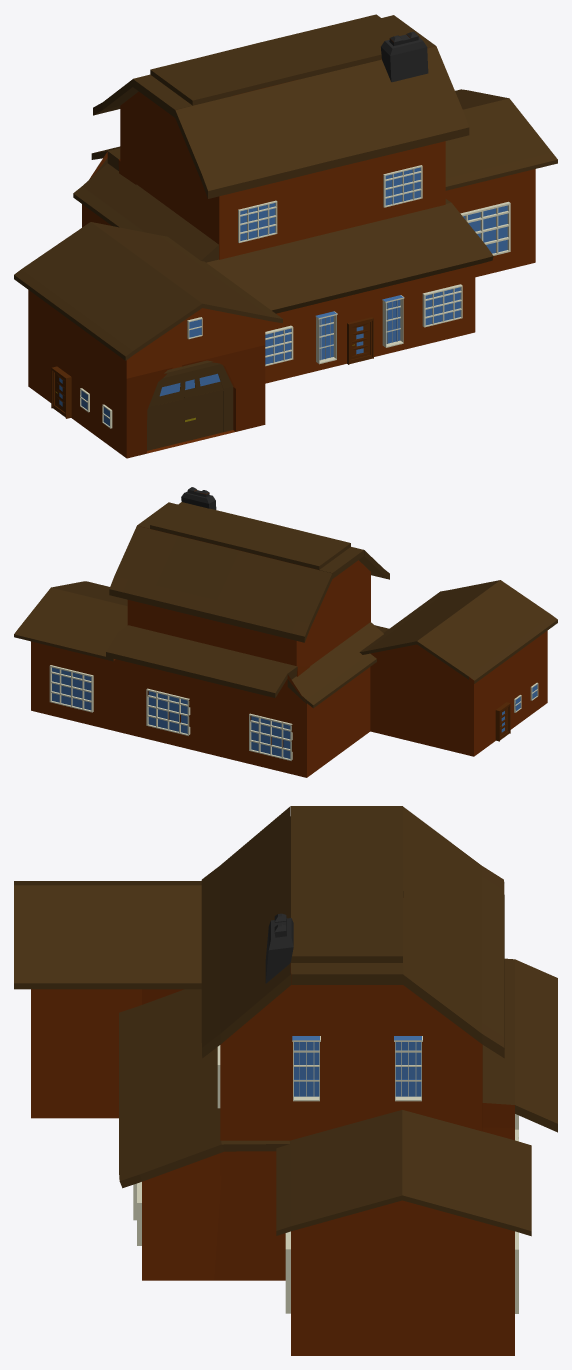
File: Chata 1.fbx
The picture shows the model from 3 angles, top to bottom: view 1: azimuth 30°, elevation 25°; view 2: azimuth 150°, elevation 25°; view 3: azimuth 270°, elevation 25°; orthographic projection. The views are drawn at different scales.
Parts seen in each view (by area): view 1: Cube, Cube.003, Cube.004, Cube.001, Cube.002, Cube.005; view 2: Cube, Cube.003, Cube.005; view 3: Cube, Cube.001, Cube.003.
Boxes of the visible parts, bbox=[...] form: Cube: bbox=[14, 14, 557, 458]; Cube.003: bbox=[238, 165, 510, 366]; Cube.004: bbox=[147, 360, 233, 450]; Cube.001: bbox=[315, 295, 404, 364]; Cube.002: bbox=[347, 317, 373, 364]; Cube.005: bbox=[51, 366, 71, 418]; Cube: bbox=[14, 487, 557, 777]; Cube.003: bbox=[49, 665, 292, 760]; Cube.005: bbox=[495, 702, 510, 741]; Cube: bbox=[14, 806, 557, 1355]; Cube.001: bbox=[133, 1036, 422, 1220]; Cube.003: bbox=[137, 1045, 518, 1313].
Bounding box in the file's own units: 7682 × 3651 × 5156.
